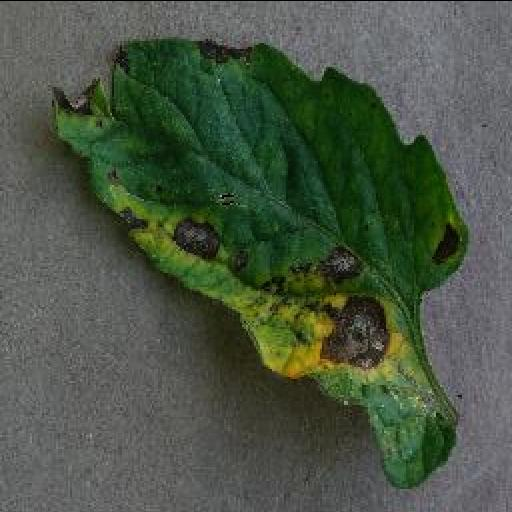disease_tomato: (46, 33, 468, 486)
